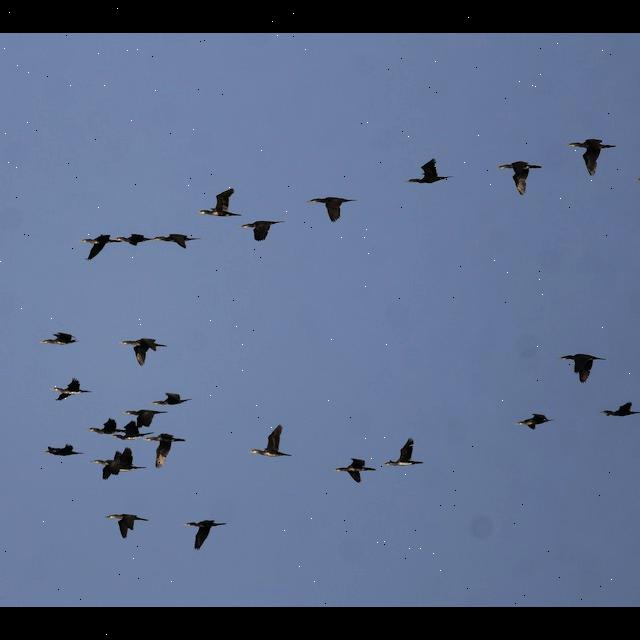cormorant: (496, 158, 542, 196), (180, 517, 228, 553), (250, 422, 294, 458), (560, 351, 606, 385), (335, 454, 379, 488), (407, 154, 453, 186), (383, 436, 423, 472), (307, 194, 358, 222), (102, 512, 152, 540)
